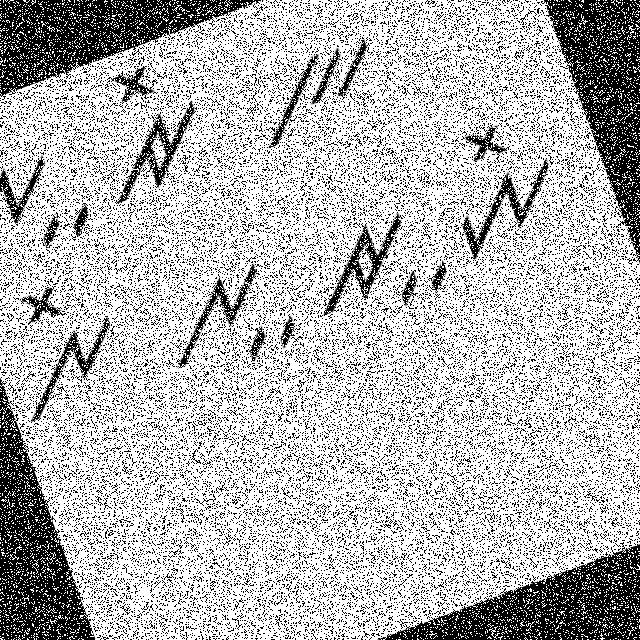lah: (136, 228, 314, 405)
lo: (0, 259, 149, 436)
rah: (286, 190, 460, 346)
ro: (66, 49, 225, 222)
yah: (0, 132, 100, 279)
yo: (417, 105, 580, 274)
